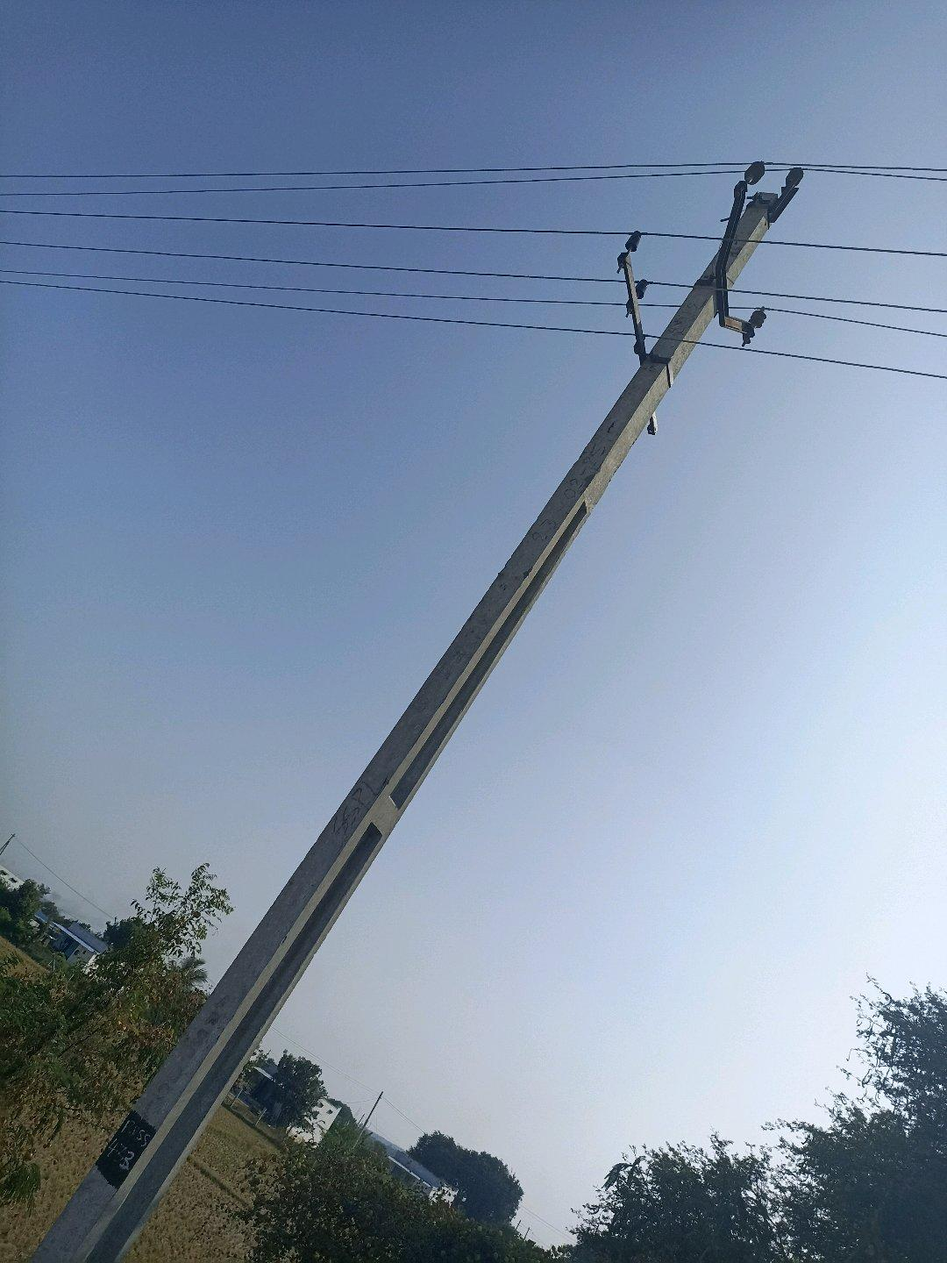{"0" "insulator", "1" "pole", "2" "crossarm", "3" "conductor", "4" "street_: (32, 162, 802, 1262)
